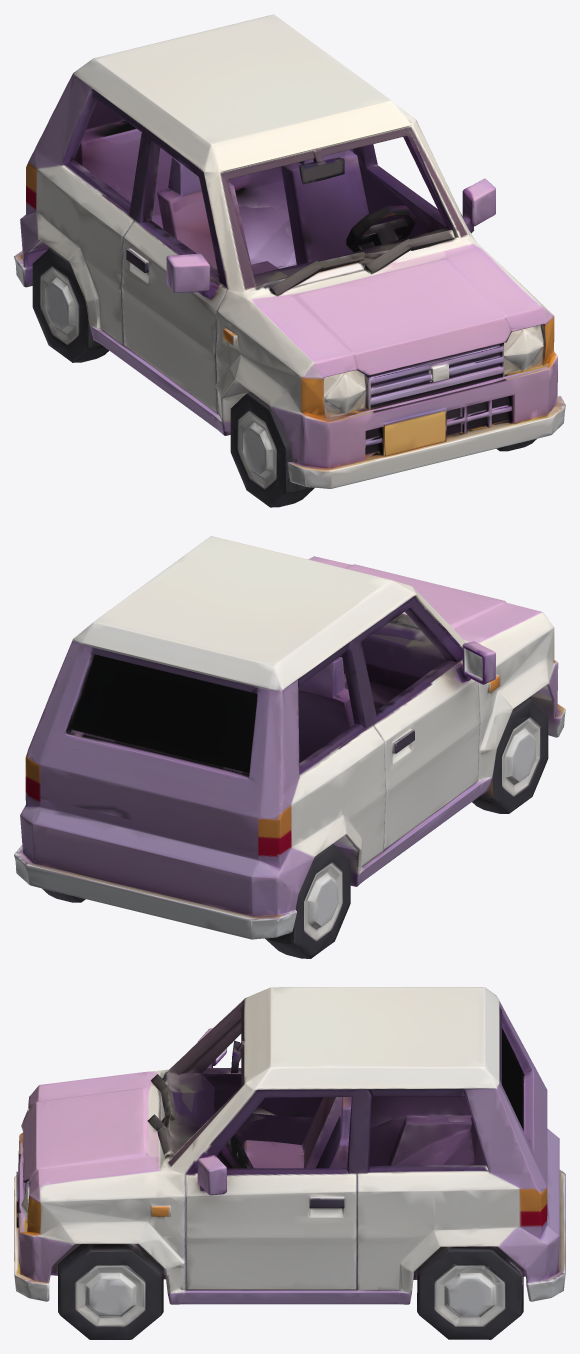
Rendered from car11.fbx.
3 views of the same model, one above another, from view 1: azimuth 30°, elevation 25°; view 2: azimuth 150°, elevation 25°; view 3: azimuth 270°, elevation 25° (orthographic). The views are drawn at different scales.
Parts seen in each view (by area): view 1: node_0; view 2: node_0; view 3: node_0.
Part boxes in pixels (<box>): node_0: <box>14,14,565,507</box>; node_0: <box>14,536,565,958</box>; node_0: <box>14,987,565,1339</box>.
Bounding box in the file's own units: 65.06 × 54.29 × 106.
